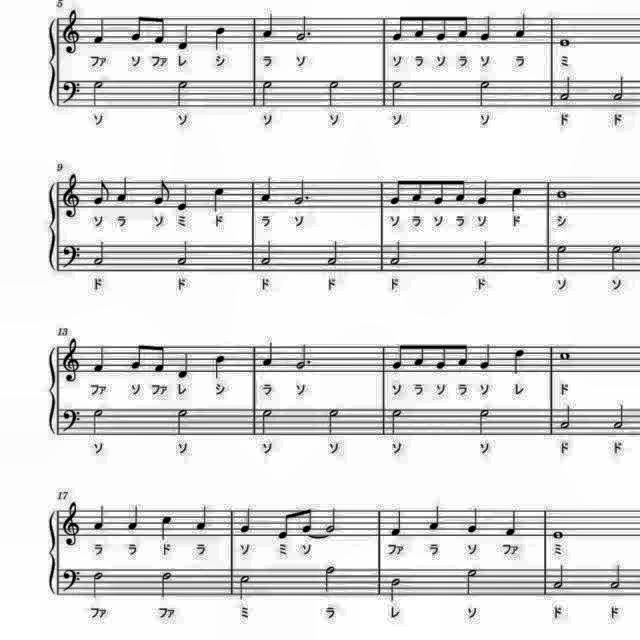Bass-clef: (60, 78, 84, 108), (61, 239, 84, 269), (60, 406, 84, 434), (60, 568, 84, 596)
Eighth-note: (151, 177, 173, 207), (91, 177, 112, 207), (385, 176, 403, 210), (129, 11, 147, 44), (276, 508, 294, 540), (129, 341, 147, 373), (152, 12, 168, 48), (387, 11, 405, 43), (409, 172, 426, 204), (152, 342, 168, 376), (389, 341, 406, 373), (433, 12, 449, 44), (433, 340, 449, 372), (430, 174, 446, 206), (300, 505, 316, 535), (456, 11, 472, 41), (412, 11, 428, 41), (412, 339, 428, 369), (456, 339, 472, 368), (452, 174, 468, 203)
Full-note: (557, 348, 573, 364), (550, 528, 568, 542), (556, 35, 574, 49), (554, 186, 570, 200)
Half-dot: (291, 178, 313, 210), (292, 12, 312, 44), (294, 342, 314, 372)
Half-note: (172, 407, 192, 438), (550, 563, 570, 593), (323, 563, 341, 595), (176, 78, 194, 110), (463, 567, 481, 599), (606, 562, 624, 594), (477, 76, 495, 108), (553, 242, 571, 274), (156, 568, 174, 600), (260, 76, 278, 108), (324, 78, 342, 110), (606, 244, 624, 276), (612, 402, 630, 434), (177, 236, 196, 266), (557, 75, 575, 105), (557, 402, 575, 432), (475, 240, 493, 270), (385, 573, 403, 603), (260, 241, 278, 271), (236, 573, 254, 603), (88, 240, 106, 270), (611, 75, 629, 105), (324, 407, 341, 438), (478, 406, 494, 438), (260, 406, 276, 438), (91, 78, 107, 110), (388, 78, 404, 110), (91, 568, 107, 600), (387, 238, 405, 266), (388, 407, 404, 438), (91, 407, 107, 438), (323, 506, 339, 534), (328, 242, 344, 270)
Quarter-note: (387, 505, 405, 539), (503, 506, 521, 540), (174, 22, 193, 54), (511, 344, 529, 376), (91, 14, 109, 46), (91, 342, 109, 374), (175, 180, 193, 212), (175, 351, 193, 382), (238, 504, 255, 536), (464, 504, 481, 536), (113, 174, 131, 204), (159, 512, 177, 542), (210, 185, 228, 215), (88, 501, 105, 532), (211, 23, 229, 52), (514, 10, 530, 42), (192, 502, 208, 534), (126, 502, 142, 534), (426, 500, 442, 532), (509, 185, 526, 215), (258, 173, 274, 203), (476, 176, 492, 206), (262, 11, 278, 41), (262, 339, 278, 369), (478, 342, 494, 372), (478, 12, 494, 42), (212, 352, 228, 381)
Treble-clef: (61, 170, 84, 220), (61, 5, 84, 54), (61, 498, 84, 546), (61, 336, 84, 384)
